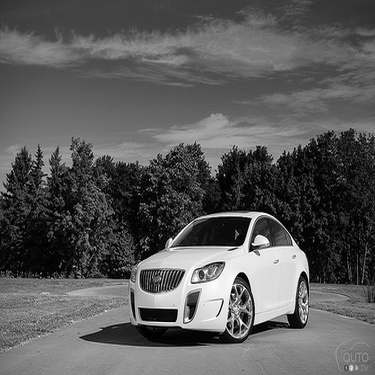car: (124, 200, 316, 346)
